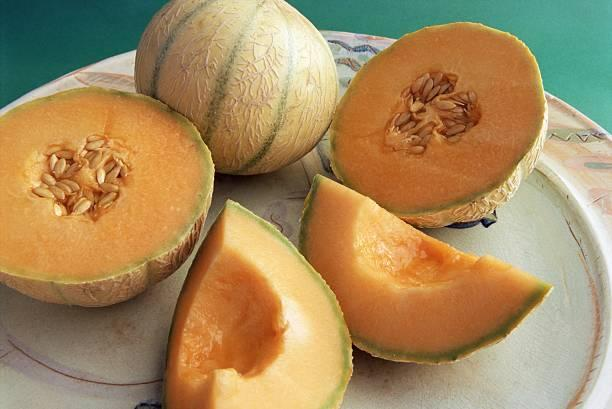Melon Ripe: (299, 174, 554, 365), (0, 83, 214, 306), (330, 21, 548, 229), (166, 199, 354, 409), (134, 0, 339, 176)
